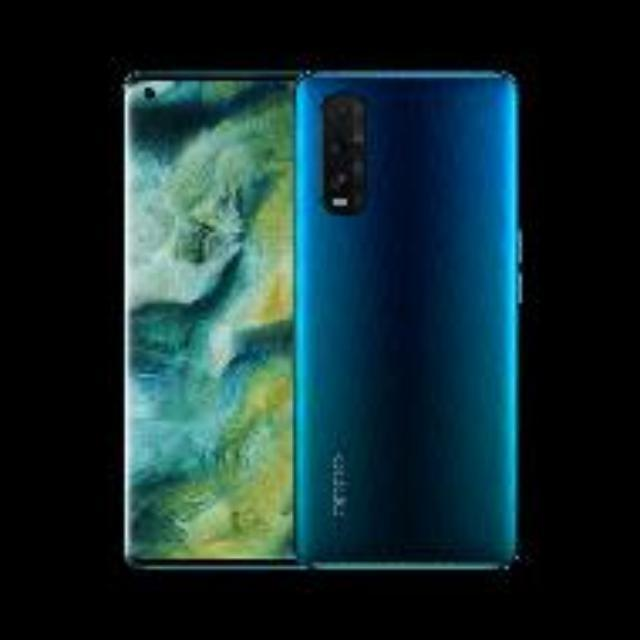Phone: (299, 71, 517, 569), (125, 71, 293, 569)
